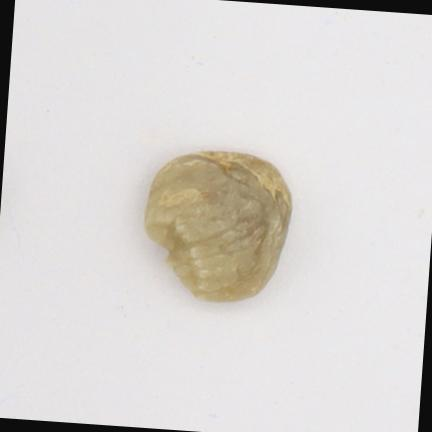immature: (145, 151, 291, 301)
